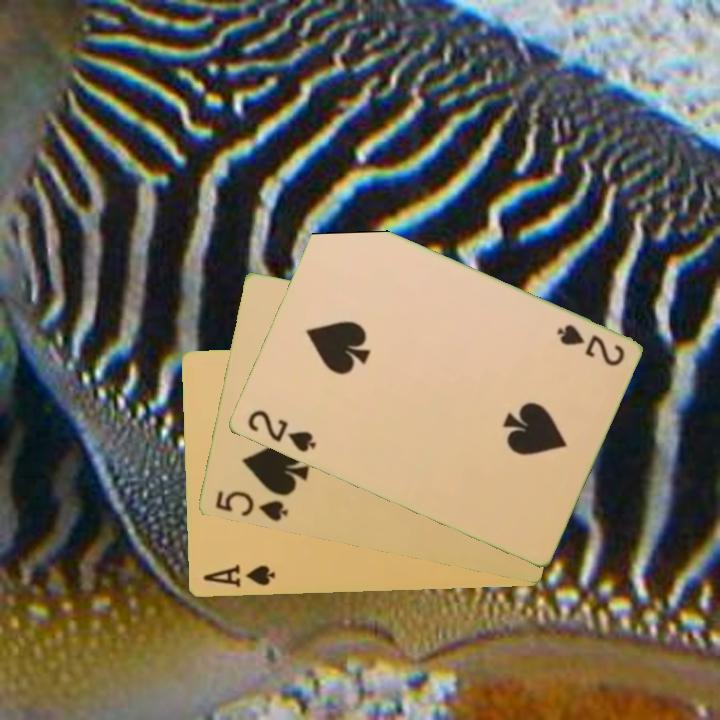2s: (243, 406, 319, 456), (552, 321, 627, 370)
5s: (211, 487, 291, 525)
As: (199, 561, 277, 592)
